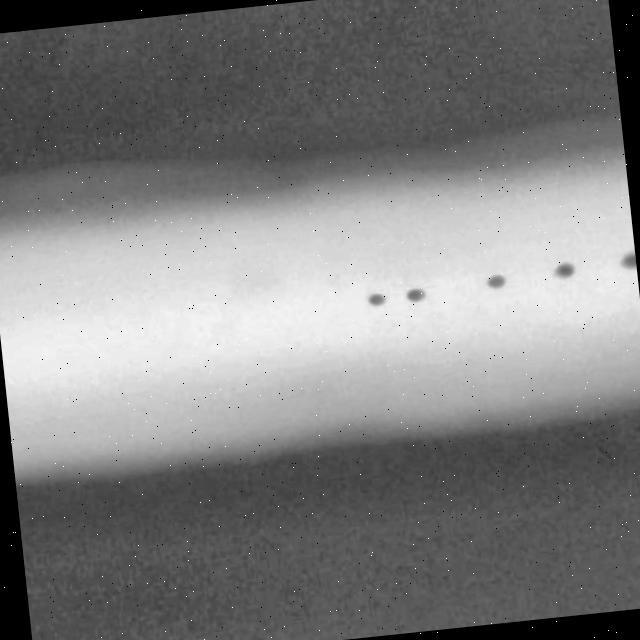Pore: (356, 278, 394, 316), (547, 250, 588, 283), (608, 242, 638, 283), (399, 276, 428, 313), (478, 265, 507, 300)
